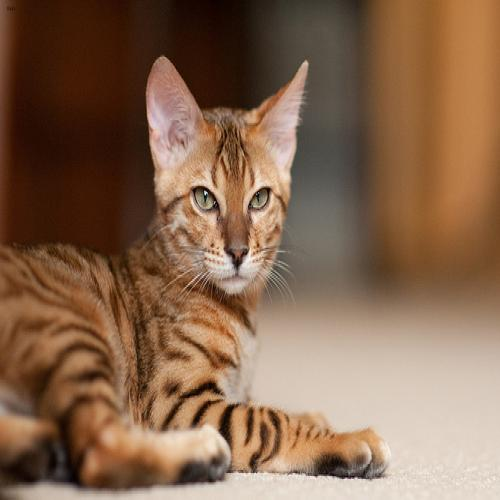bengal: (134, 45, 311, 309)
